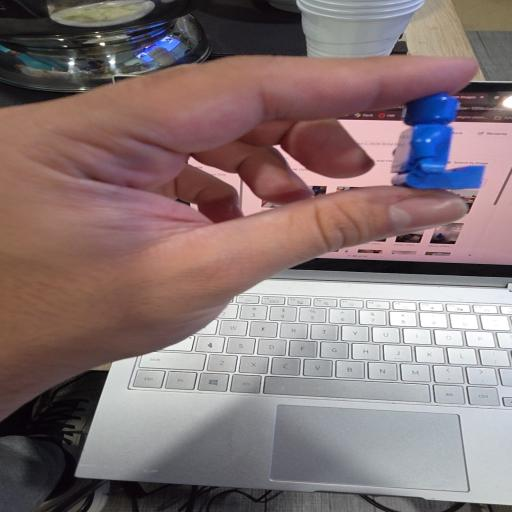Blue: (392, 94, 483, 188)
